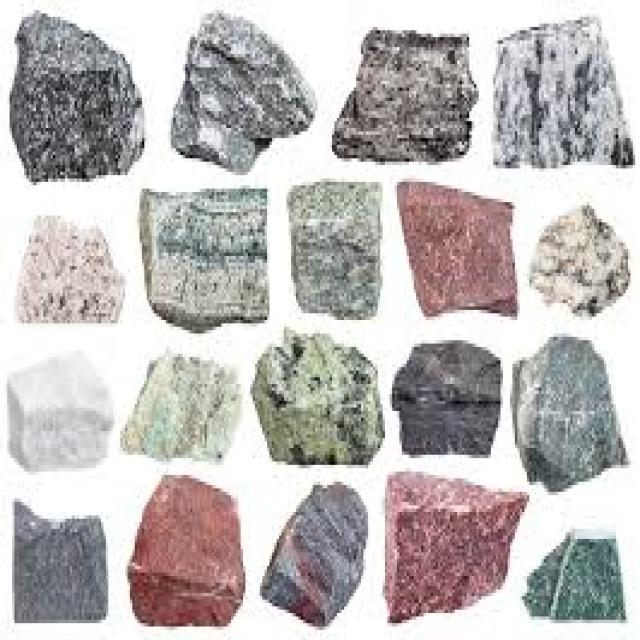Metamorphic: (7, 10, 149, 185), (488, 13, 626, 178), (164, 10, 308, 165), (322, 20, 482, 158), (130, 185, 281, 320), (376, 468, 512, 616), (127, 468, 245, 633), (508, 330, 628, 482), (397, 172, 522, 313), (2, 330, 120, 468), (252, 330, 382, 455), (255, 485, 368, 620), (5, 209, 125, 327), (118, 347, 245, 455), (2, 495, 108, 623), (291, 175, 383, 320), (394, 333, 508, 448), (529, 202, 633, 317), (522, 522, 628, 623)
